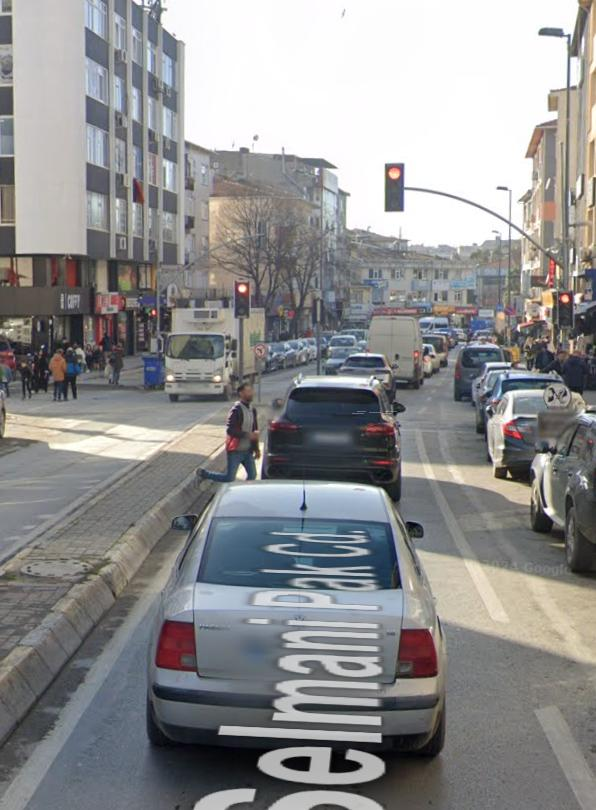leftturnsareforbidden: (255, 345, 266, 358)
redlight: (386, 162, 404, 211), (234, 280, 251, 319), (559, 292, 575, 327), (149, 307, 159, 325)
